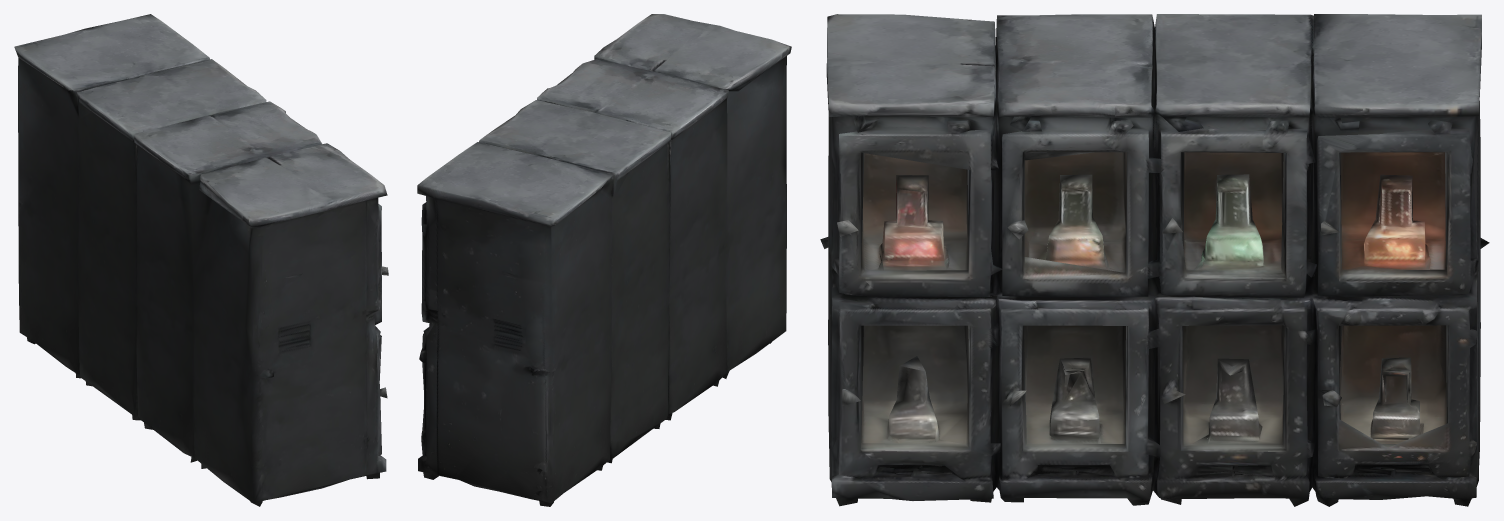
The model's file is xd_incubator.glb.
3 views of the same model, side by side, from view 1: azimuth 30°, elevation 25°; view 2: azimuth 150°, elevation 25°; view 3: azimuth 270°, elevation 25° (orthographic). The views are drawn at different scales.
Visible parts, largest first — view 1: tripo_node_8cf1d0da-c8c3-46ac-8050-af1b5361e8bf; view 2: tripo_node_8cf1d0da-c8c3-46ac-8050-af1b5361e8bf; view 3: tripo_node_8cf1d0da-c8c3-46ac-8050-af1b5361e8bf.
Part boxes in pixels (box(x1,y1,x2,y2)): tripo_node_8cf1d0da-c8c3-46ac-8050-af1b5361e8bf: box(14, 14, 388, 506); tripo_node_8cf1d0da-c8c3-46ac-8050-af1b5361e8bf: box(417, 14, 791, 506); tripo_node_8cf1d0da-c8c3-46ac-8050-af1b5361e8bf: box(820, 14, 1489, 506).
Size of the model in its own units: 0.3373 by 0.6682 by 1.
Materials: 1 (1 with a texture image).
